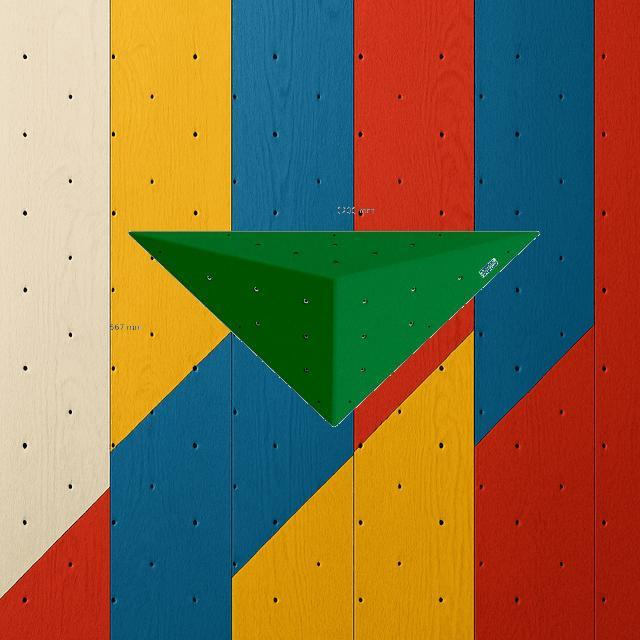Volume: (127, 230, 541, 426)
